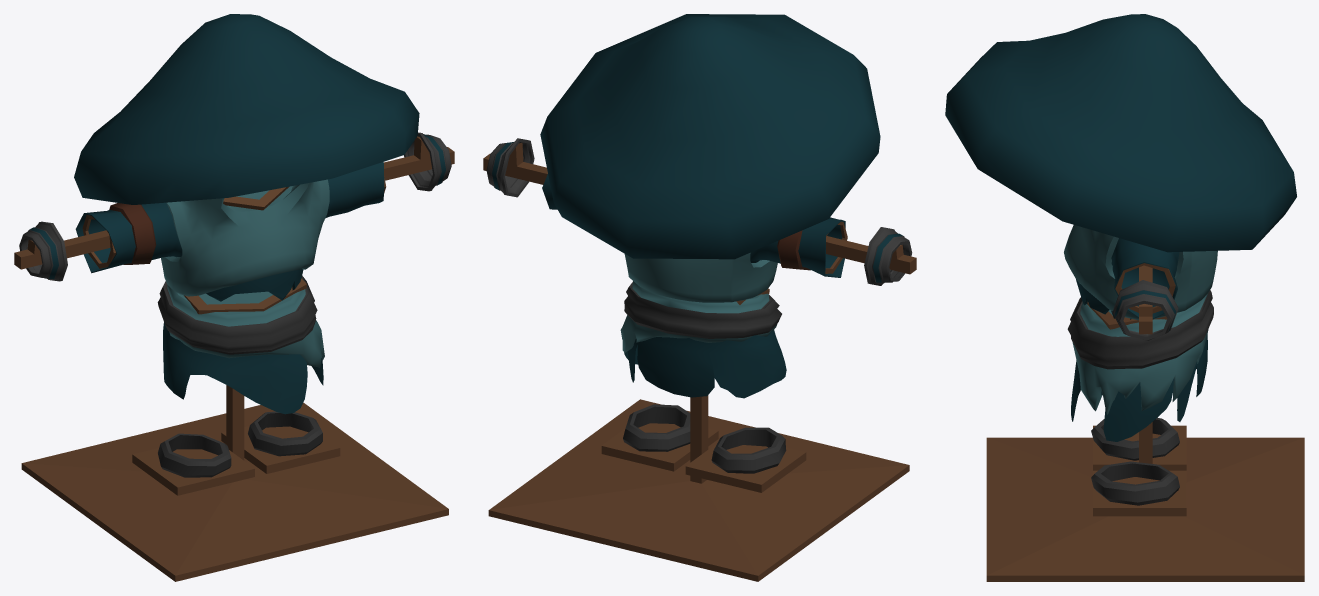
Rendered from obj.atrilCraftArmor.fbx.
3 views of the same model, side by side, from view 1: azimuth 30°, elevation 25°; view 2: azimuth 150°, elevation 25°; view 3: azimuth 270°, elevation 25° (orthographic). The views are drawn at different scales.
Visible parts, largest first — view 1: obj_CharArmor_Chest_Erudito, obj_atril, obj_CharArmor_Legs_Erudito; view 2: obj_CharArmor_Chest_Erudito, obj_atril, obj_CharArmor_Legs_Erudito; view 3: obj_CharArmor_Chest_Erudito, obj_atril, obj_CharArmor_Legs_Erudito.
Part boxes in pixels (x1,y1,x2,y2): obj_CharArmor_Chest_Erudito: (19,14,451,301); obj_atril: (14,136,454,581); obj_CharArmor_Legs_Erudito: (157,275,324,477); obj_CharArmor_Chest_Erudito: (486,14,912,302); obj_atril: (483,143,916,581); obj_CharArmor_Legs_Erudito: (620,281,786,473); obj_CharArmor_Chest_Erudito: (945,14,1296,340); obj_atril: (986,263,1304,581); obj_CharArmor_Legs_Erudito: (1067,290,1213,505).
Bounding box in the file's own units: 2.12 × 2.23 × 1.47.
